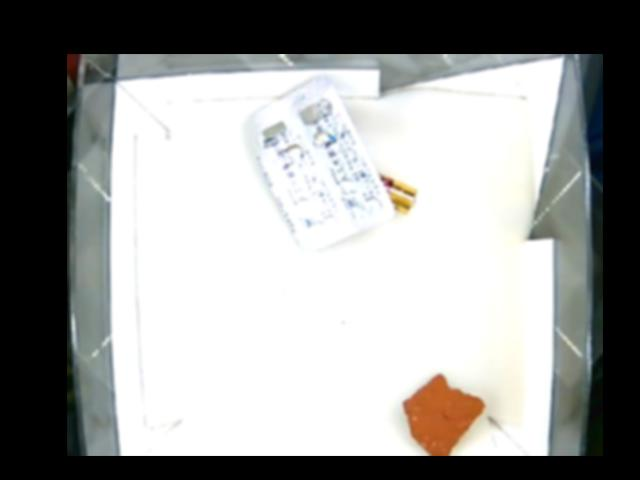Battery: (375, 173, 417, 216)
Brisk: (402, 371, 485, 455)
Medicine: (248, 77, 394, 248)
